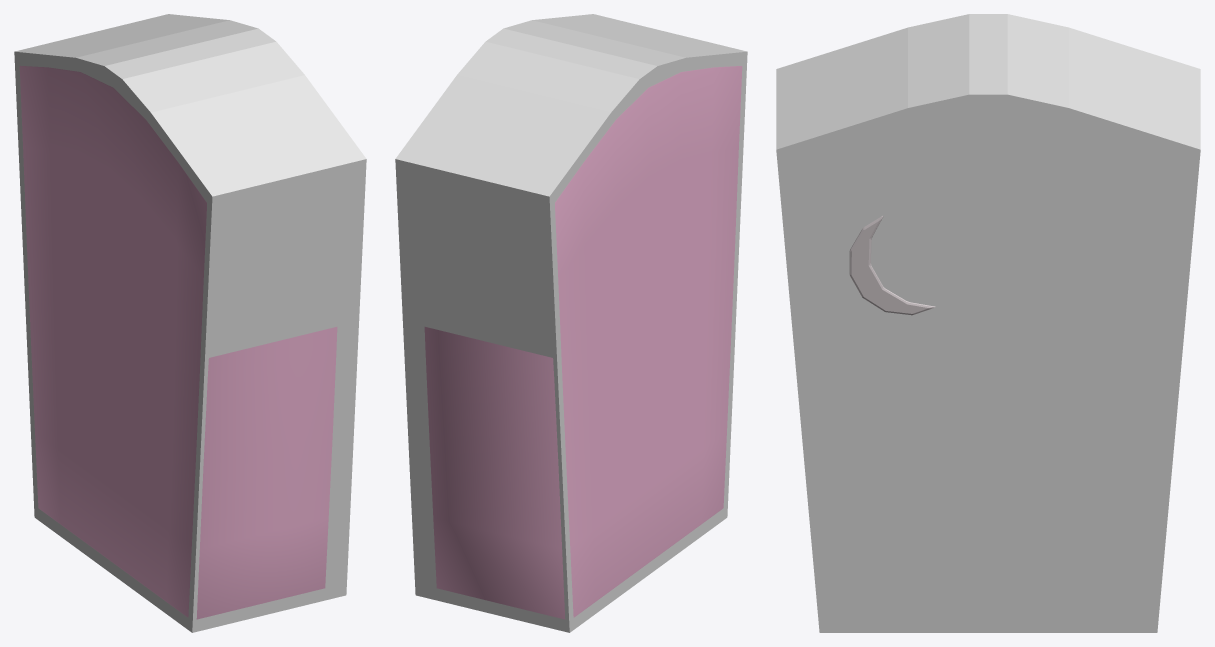
File: Cabinet.fbx
The picture shows the model from 3 angles, left to right: view 1: azimuth 30°, elevation 25°; view 2: azimuth 150°, elevation 25°; view 3: azimuth 270°, elevation 25°; orthographic projection. The views are drawn at different scales.
Visible parts, largest first — view 1: Armoire, Acoll 1; view 2: Armoire, Acoll 1; view 3: Acoll 1, Armoire.
Boxes of the visible parts, x1,y1,x2,y2 form: Armoire: [19, 65, 337, 619]; Acoll 1: [14, 14, 366, 632]; Armoire: [424, 66, 742, 619]; Acoll 1: [395, 14, 747, 632]; Acoll 1: [776, 14, 1200, 632]; Armoire: [849, 215, 935, 315].
Size of the model in its own units: 114 by 352 by 251.
